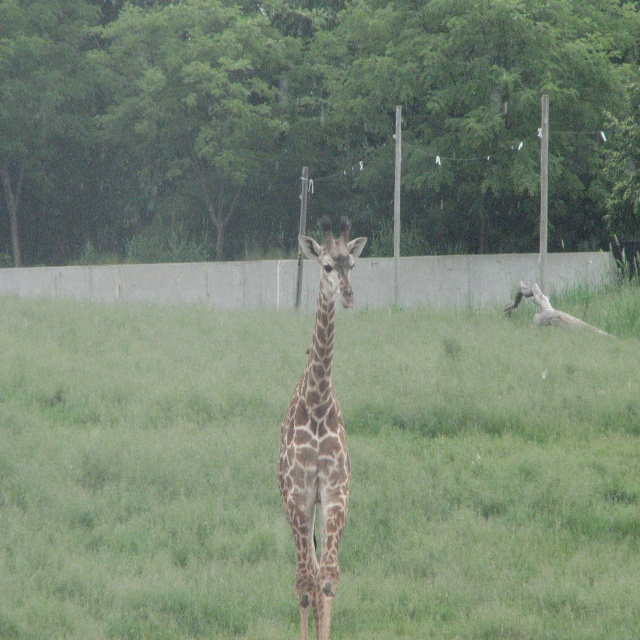Giraffe: (276, 214, 368, 636)
